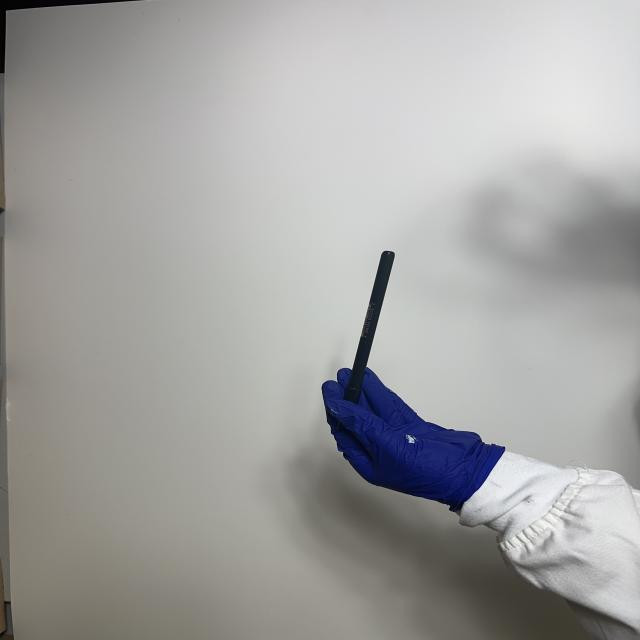gloves_contaminated: (322, 369, 504, 511)
